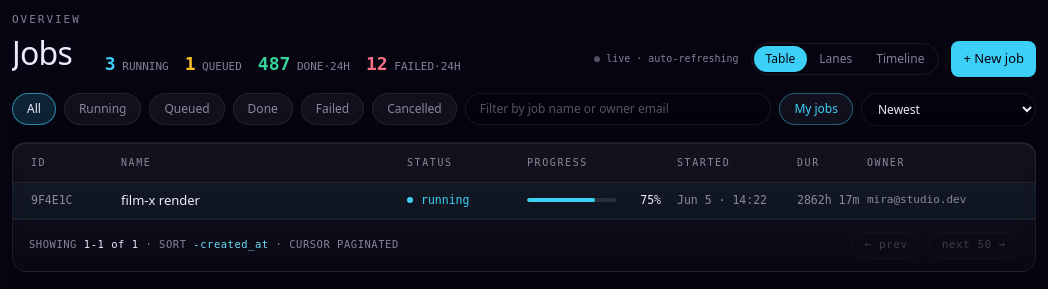
selecting a status chip re-requests with status and disables sort
The width and height of the screenshot is (1048, 289).
Check: the link "film-x render" is shown, box left=121, top=190, right=200, bottom=210
Click the button "Running" at (103, 109), box left=64, top=93, right=142, bottom=125
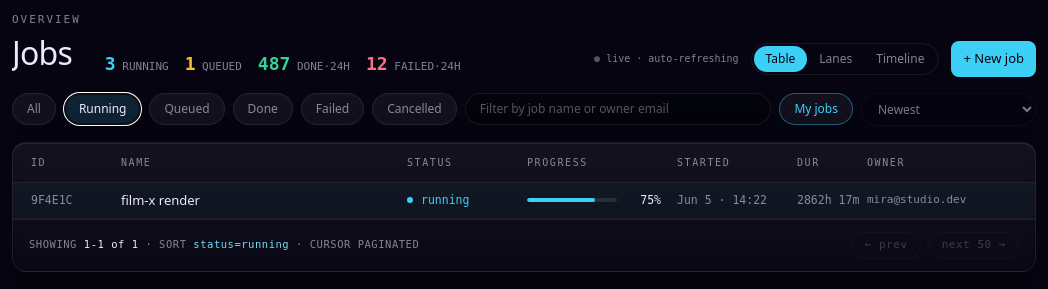
Check: the dropdown named "Sort jobs" is disabled, box left=861, top=92, right=1036, bottom=126
